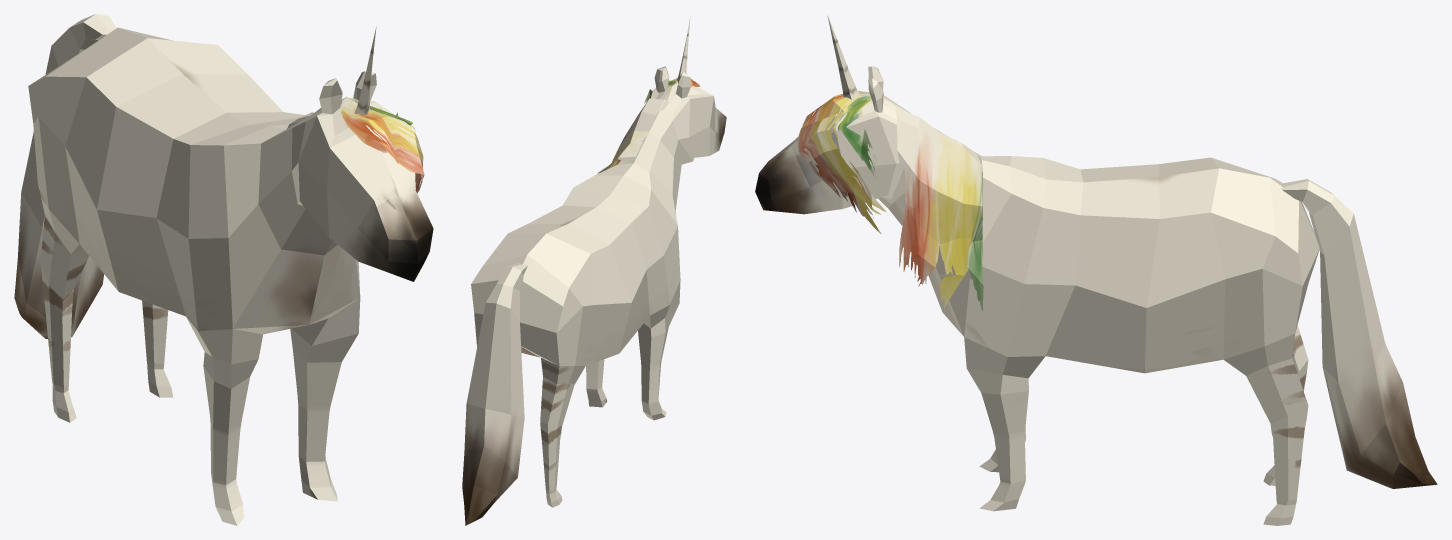
File: Harish_body_old.obj
3 views of the same model, side by side, from view 1: azimuth 30°, elevation 25°; view 2: azimuth 150°, elevation 25°; view 3: azimuth 270°, elevation 25° (orthographic). The views are drawn at different scales.
Parts seen in each view (by area): view 1: Horse; view 2: Horse; view 3: Horse.
Boxes of the visible parts, bbox=[...] form: Horse: bbox=[14, 14, 433, 525]; Horse: bbox=[462, 16, 726, 525]; Horse: bbox=[755, 15, 1437, 525].
Size of the model in its own units: 71.19 by 209 by 264.
Materials: 1 (1 with a texture image).
